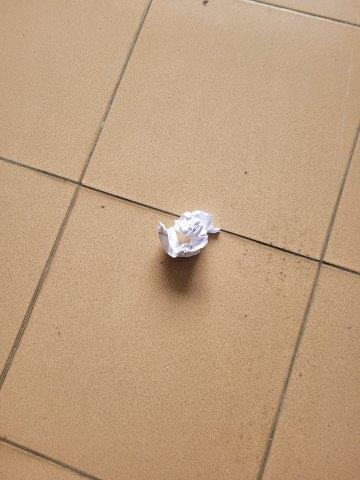kertas: (151, 209, 220, 261)
